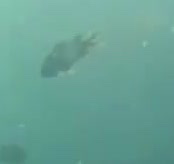smallfish: (39, 29, 104, 82)
